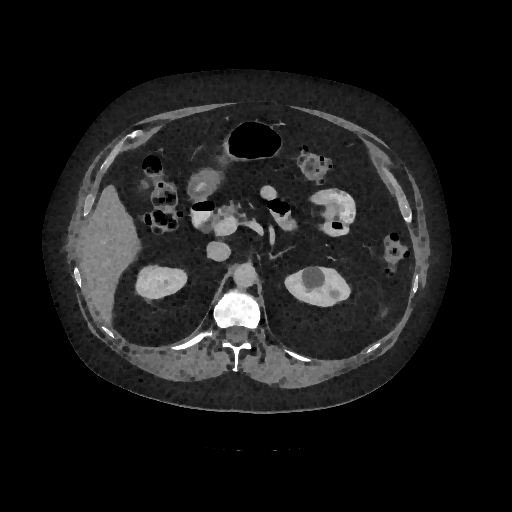Lesion: (297, 265, 330, 295)
